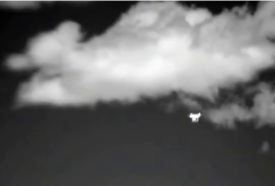Target: (189, 113, 200, 121)
